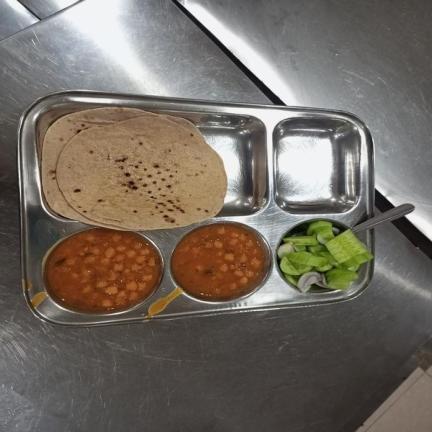Chhole: (46, 230, 163, 312), (172, 226, 263, 299)
Plate: (16, 90, 374, 329)
Roti: (40, 106, 228, 233)
Salad: (278, 218, 374, 294)
